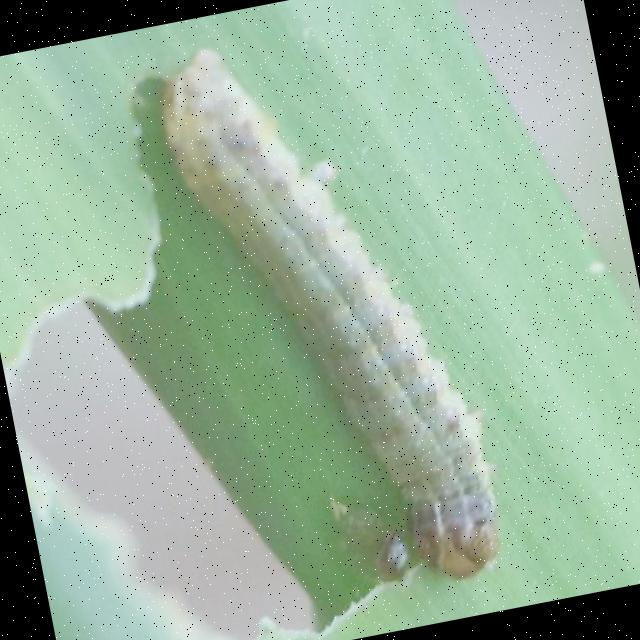worm: (148, 9, 514, 620)
